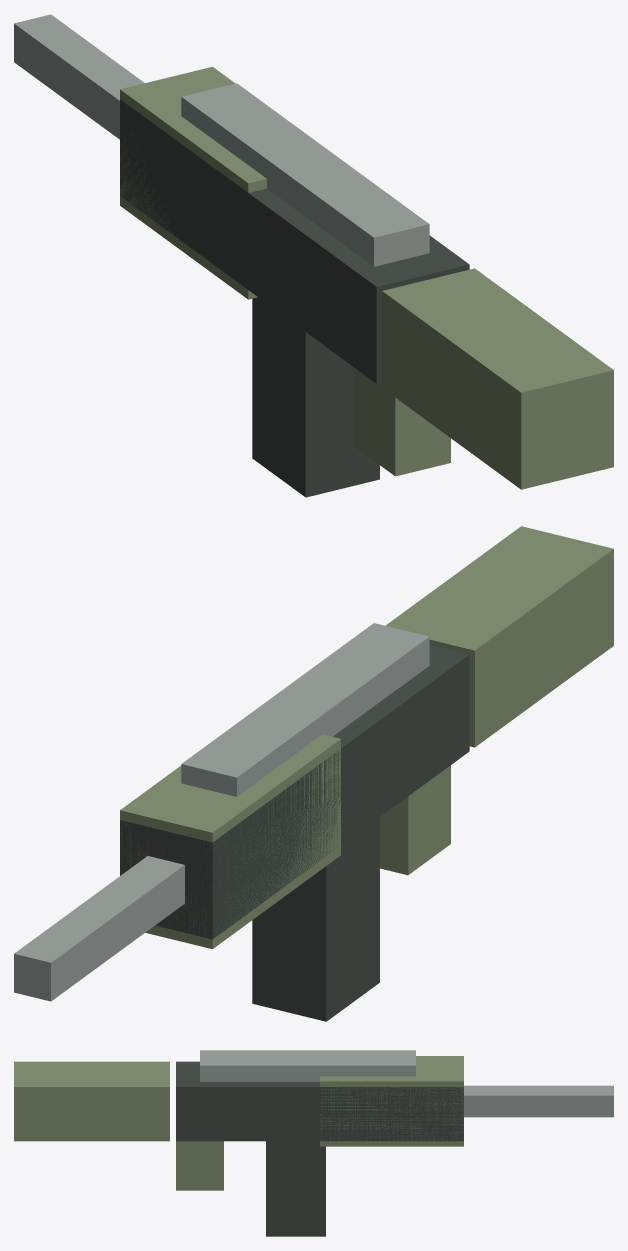
File: rifle.gltf
3 views of the same model, one above another, from view 1: azimuth 30°, elevation 25°; view 2: azimuth 150°, elevation 25°; view 3: azimuth 270°, elevation 25° (orthographic). The views are drawn at different scales.
Size of the model in its own units: 5 by 15.5 by 50.
